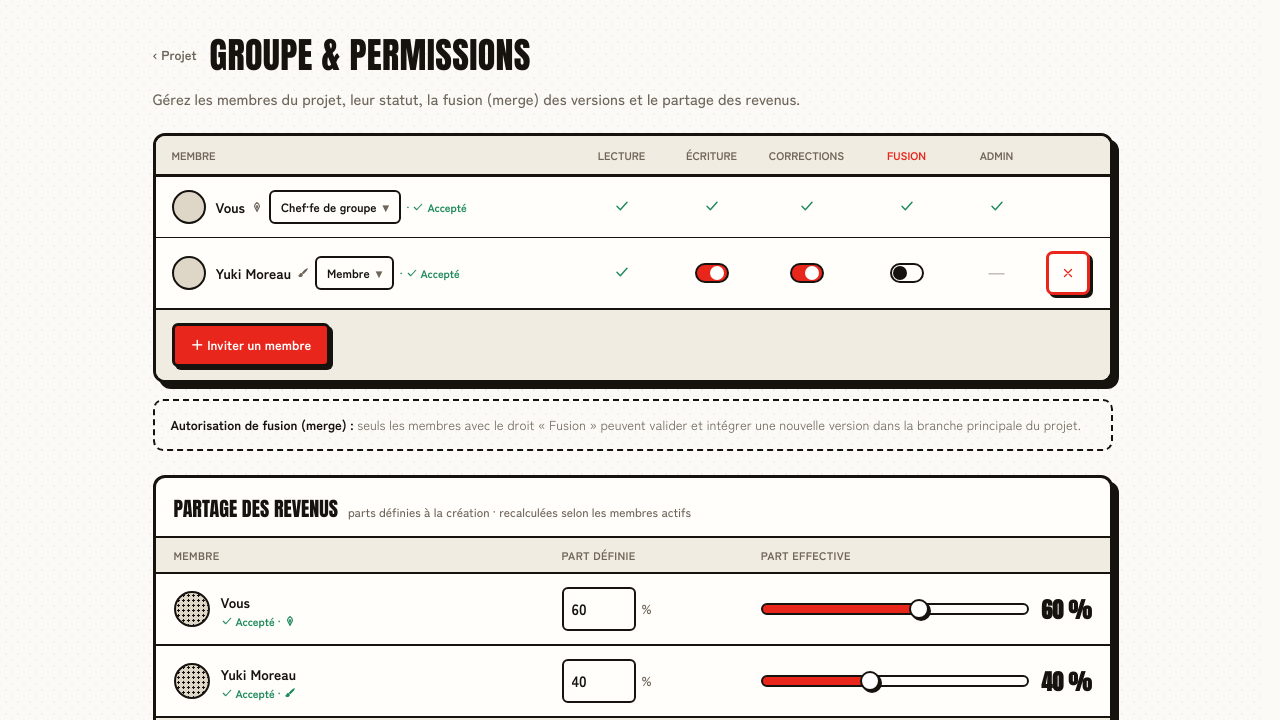
GroupePermissionsClient — split draft persistence › resets the draft when the server state actually changed the shares
Replace the text in the number field named "Part exacte de Yuki Moreau" with "35": (599, 681) [562,659,636,703]
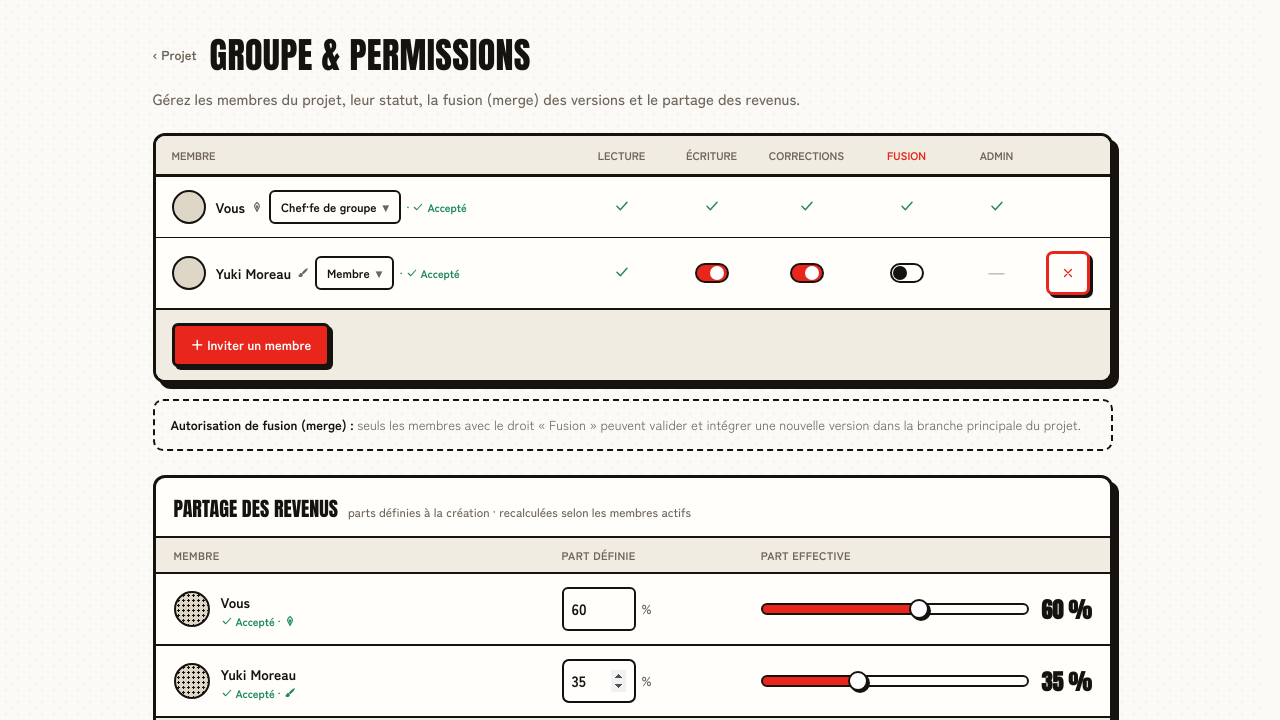
Click the switch named "Fusion — Yuki Moreau": (906, 273) [884,251,928,295]
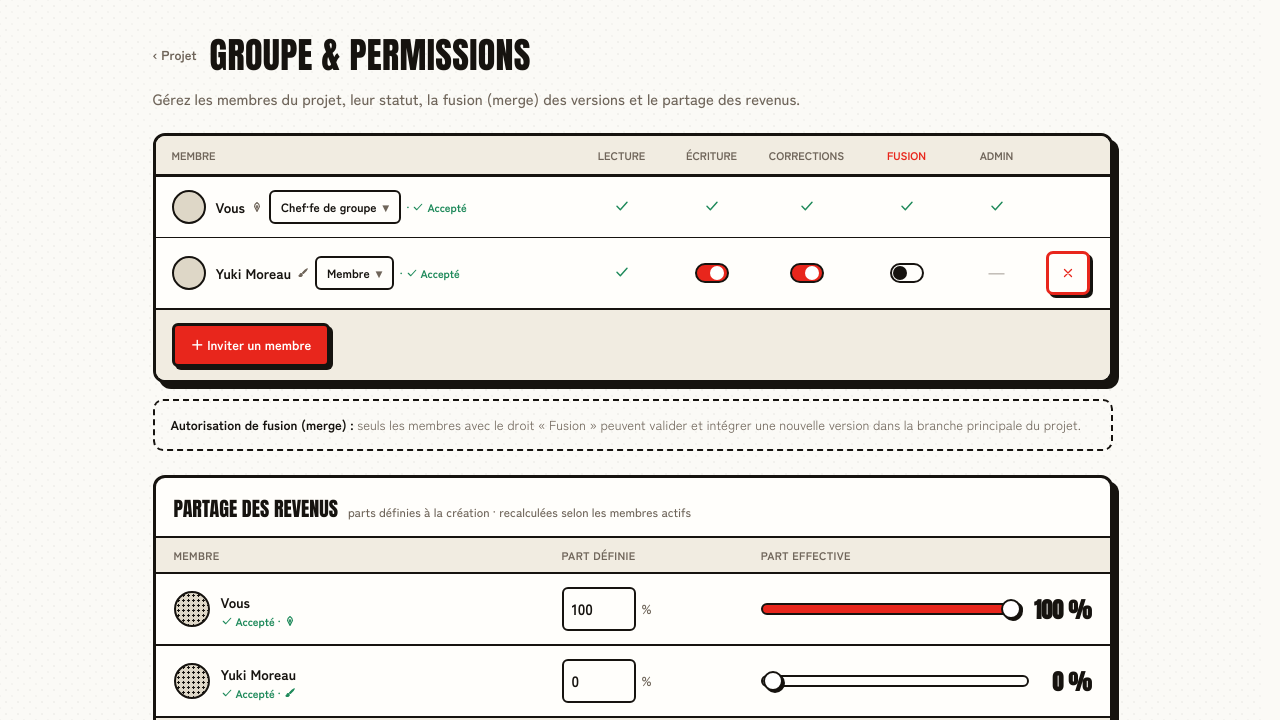
Check: the number field named "Part exacte de Yuki Moreau" holds "0", box [562,659,636,703]
